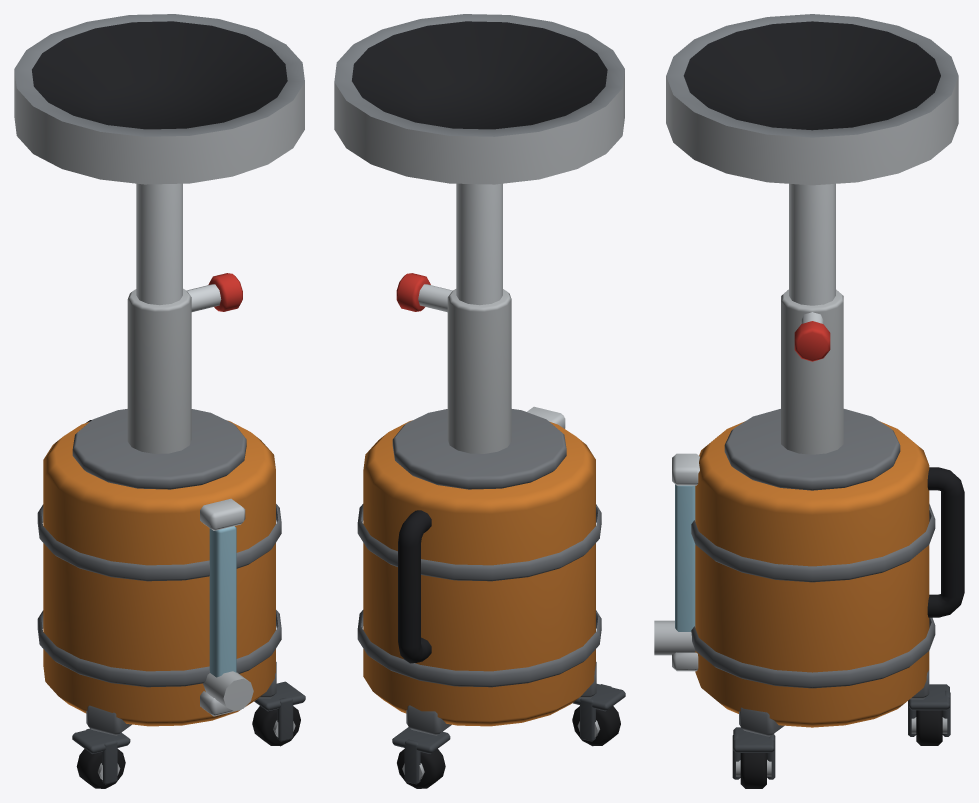
File: SM_OilDrain_Upright_01.glb
The picture shows the model from 3 angles, left to right: view 1: azimuth 30°, elevation 25°; view 2: azimuth 150°, elevation 25°; view 3: azimuth 270°, elevation 25°; orthographic projection.
Parts seen in each view (by area): view 1: SM_OilDrain_Upright_01; view 2: SM_OilDrain_Upright_01; view 3: SM_OilDrain_Upright_01.
Boxes of the visible parts, left/top/right/bottom form: SM_OilDrain_Upright_01: left=14, top=14, right=305, bottom=788; SM_OilDrain_Upright_01: left=334, top=14, right=625, bottom=788; SM_OilDrain_Upright_01: left=654, top=14, right=964, bottom=788.
Bounding box in the file's own units: 0.5 × 1.26 × 0.53.
1 material, 1 textured.
